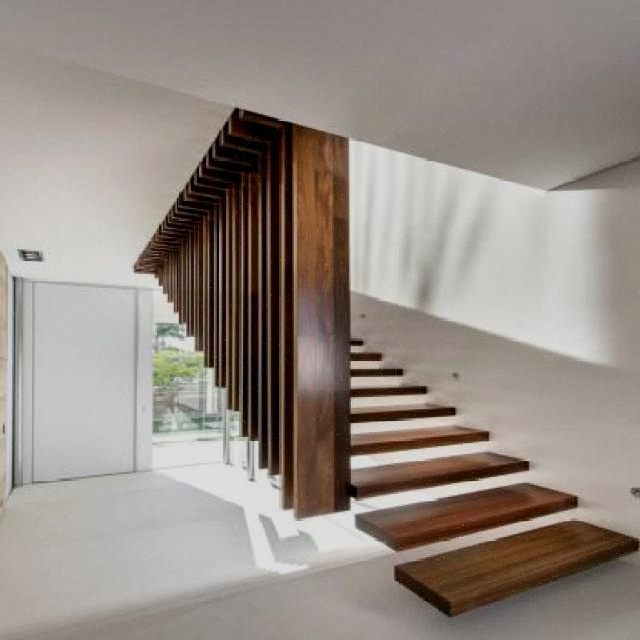stair: (133, 174, 639, 598)
